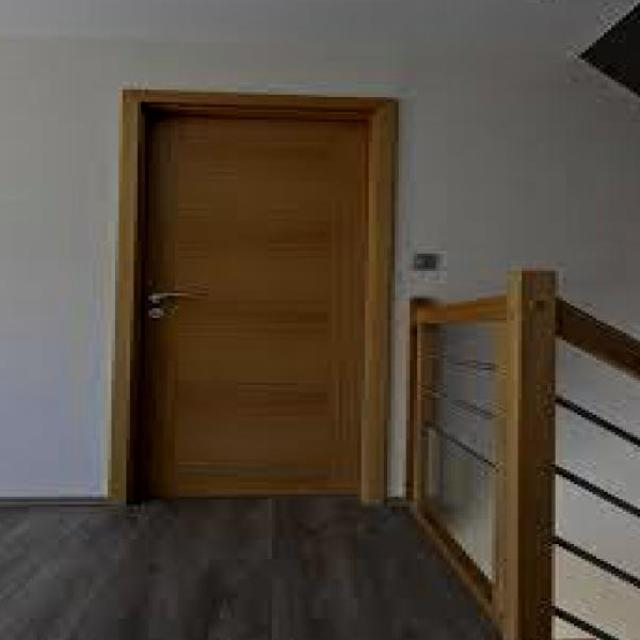door: (136, 98, 385, 501)
